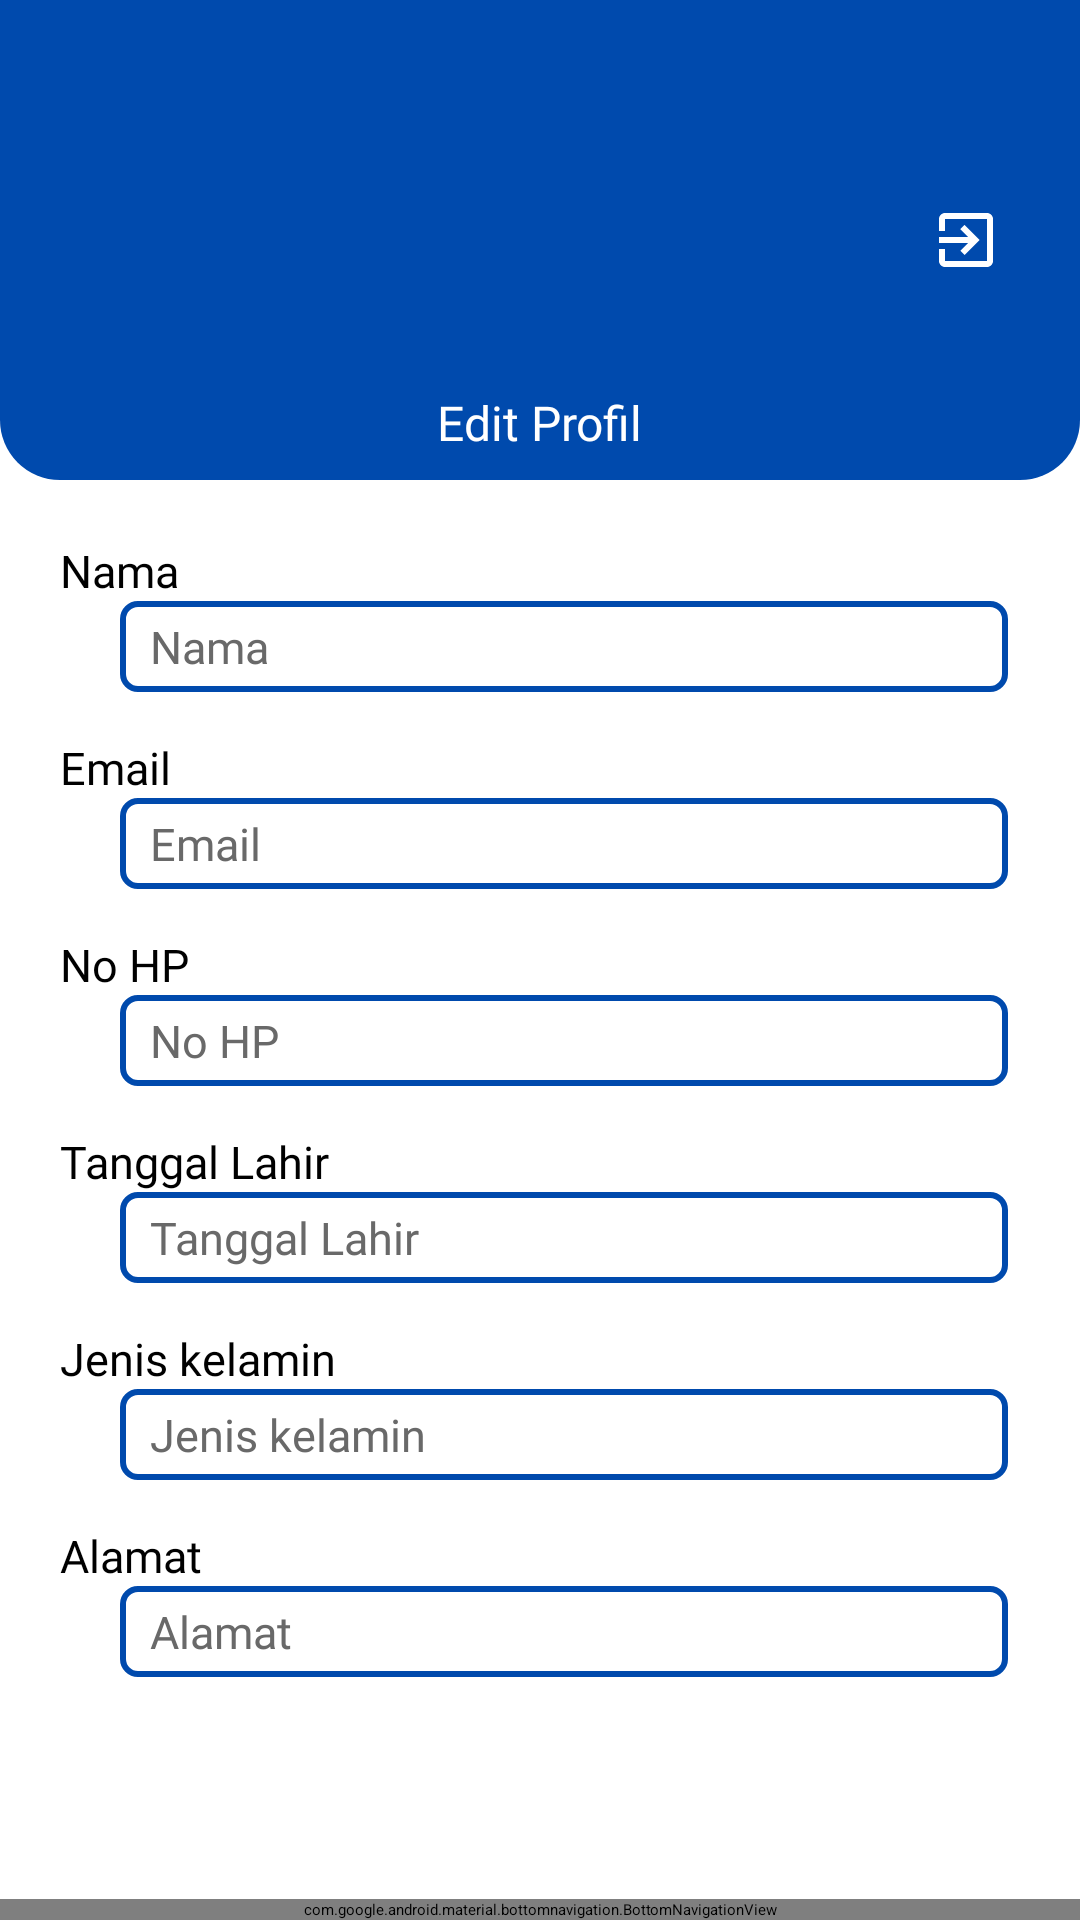

Named icons in this screenshot (1080*1920) and their centers, point (x, y):
keluar: point (966, 240)
